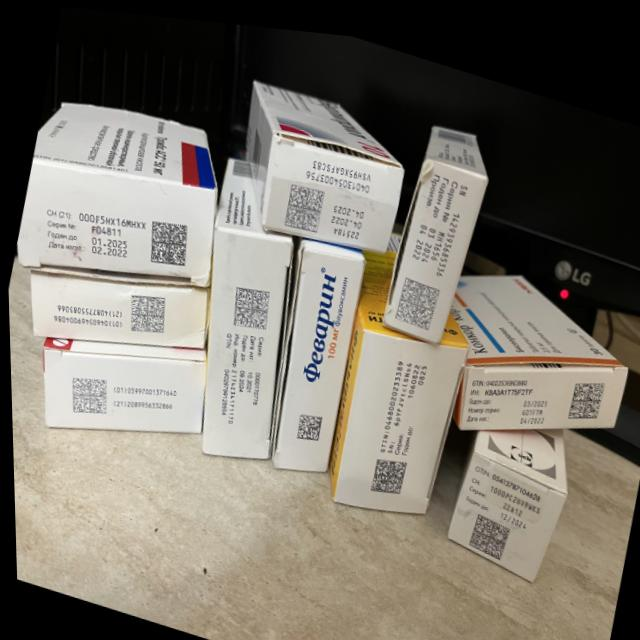datamatrix: (143, 211, 193, 270), (392, 267, 440, 324), (63, 368, 112, 421), (122, 285, 170, 339), (227, 276, 273, 331), (282, 175, 326, 230), (464, 502, 510, 553), (565, 361, 605, 416), (368, 446, 406, 493), (293, 404, 322, 439)
